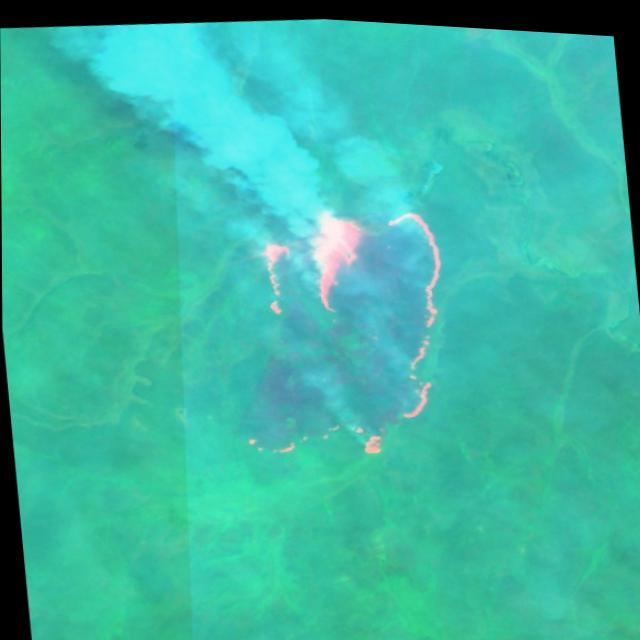fire: (220, 183, 465, 470)
